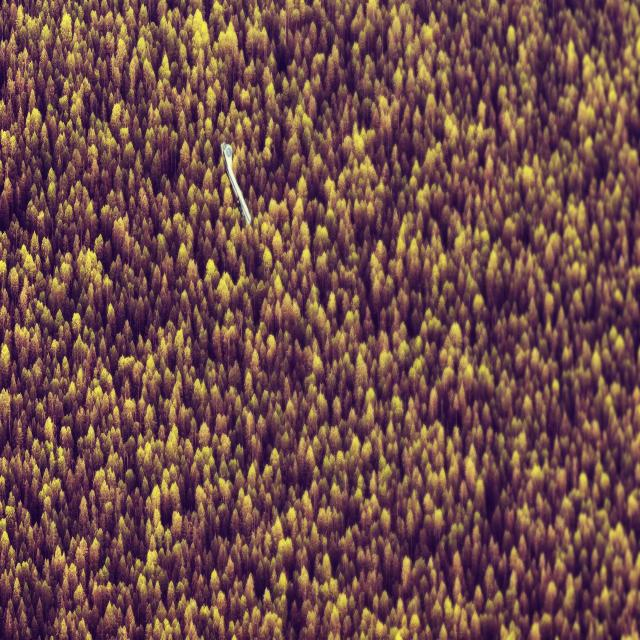airplane: (220, 141, 251, 226)
